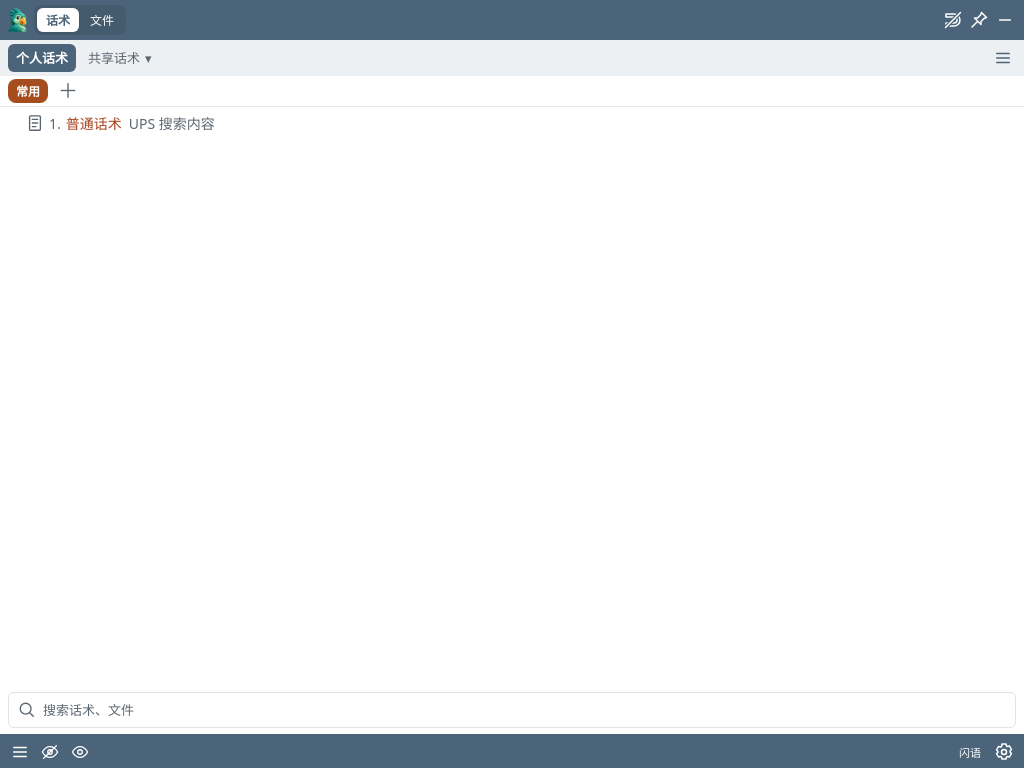
Test: 底部搜索面板 › 仅文件或无结果时不显示空分组：底部=false
Type "UPS" into the field labelled "搜索话术、文件".
click(524, 710); type("UPS")  # box [41,695,1006,725]
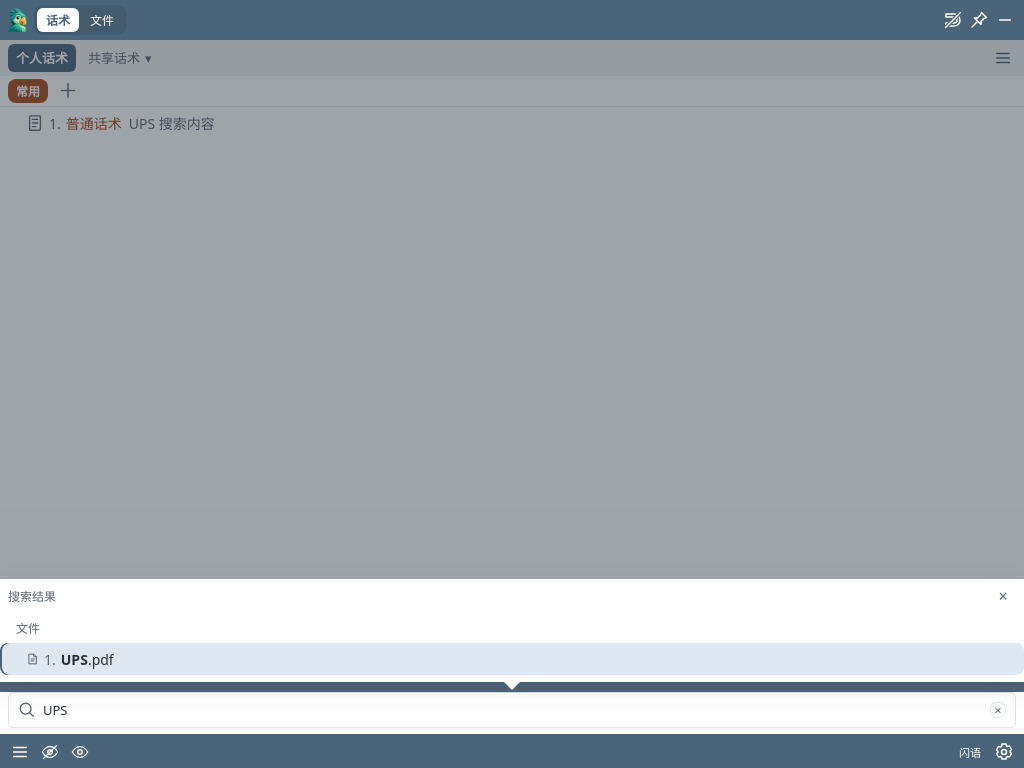
Expected: the option "1. UPS.pdf" is shown, [0,643,1023,675]
Replace the text in the field named "搜索话术、文件" with "none" at (516, 710), box [41,695,990,725]
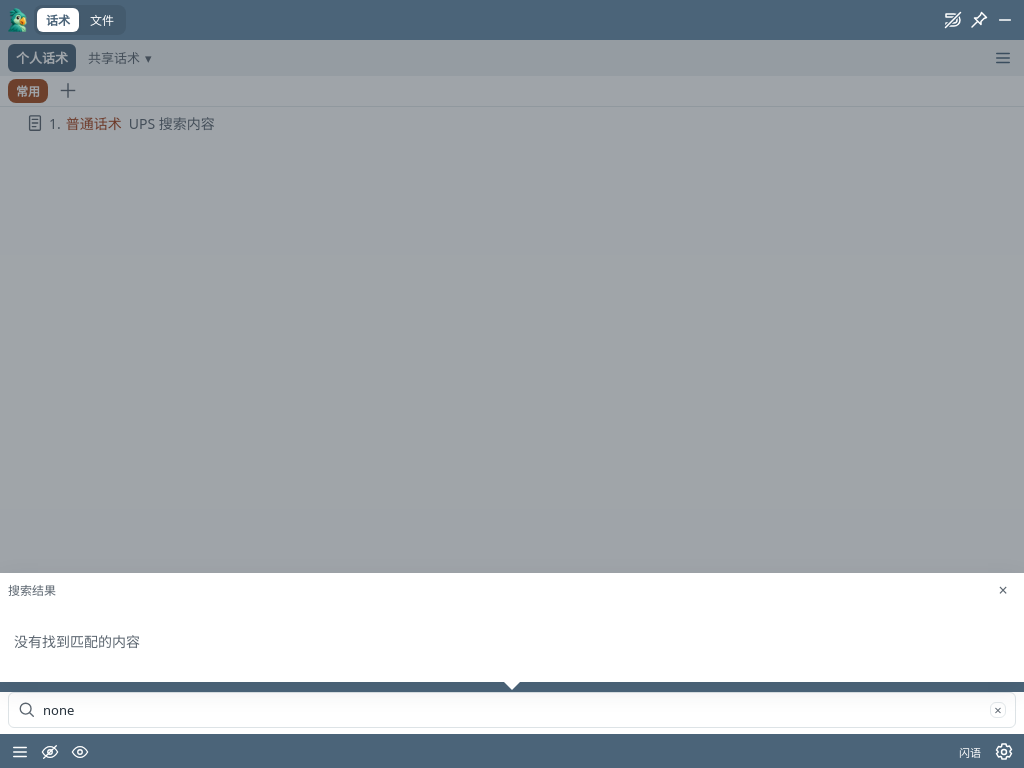
Expected: the text "没有找到匹配的内容" is shown, [14,632,140,651]
